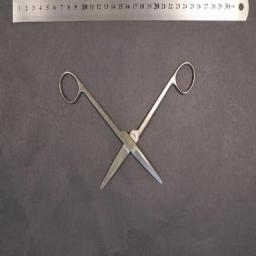Curved Mayo Scissors: (58, 60, 196, 192)
